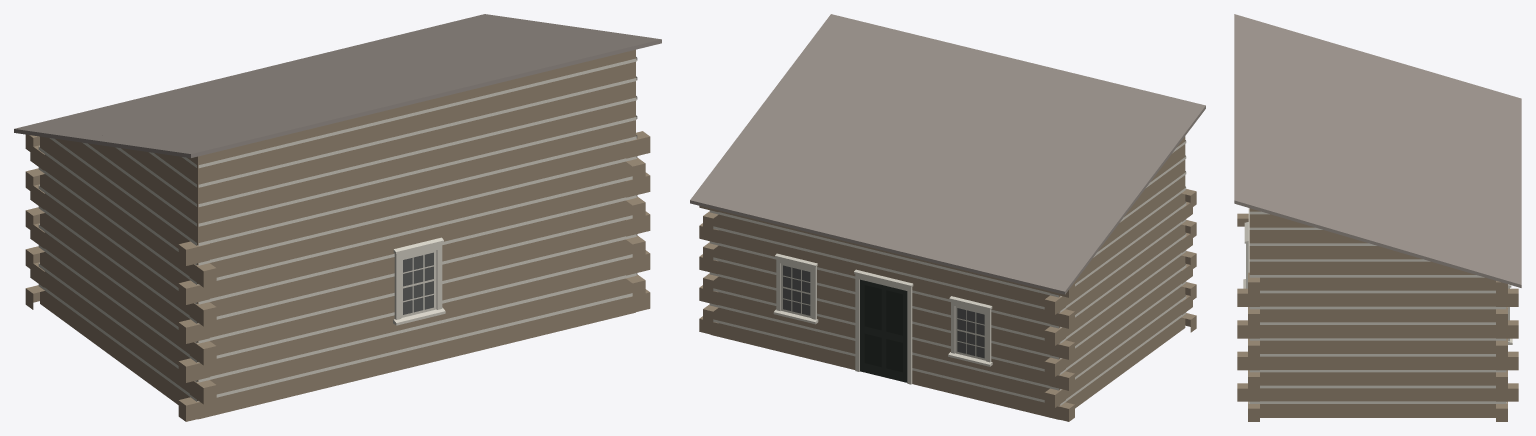
The model's file is fort_dearborn_artillery_house__log_1816.glb.
The picture shows the model from 3 angles, left to right: view 1: azimuth 30°, elevation 25°; view 2: azimuth 150°, elevation 25°; view 3: azimuth 270°, elevation 25°; orthographic projection. The views are drawn at different scales.
Parts seen in each view (by area): view 1: fort_dearborn_artillery_house__log_1816; view 2: fort_dearborn_artillery_house__log_1816; view 3: fort_dearborn_artillery_house__log_1816.
Part boxes in pixels (bbox=[...]): fort_dearborn_artillery_house__log_1816: bbox=[14, 14, 661, 421]; fort_dearborn_artillery_house__log_1816: bbox=[690, 14, 1205, 421]; fort_dearborn_artillery_house__log_1816: bbox=[1234, 14, 1521, 421].
Size of the model in its own units: 8.6 by 4.82 by 5.6.
